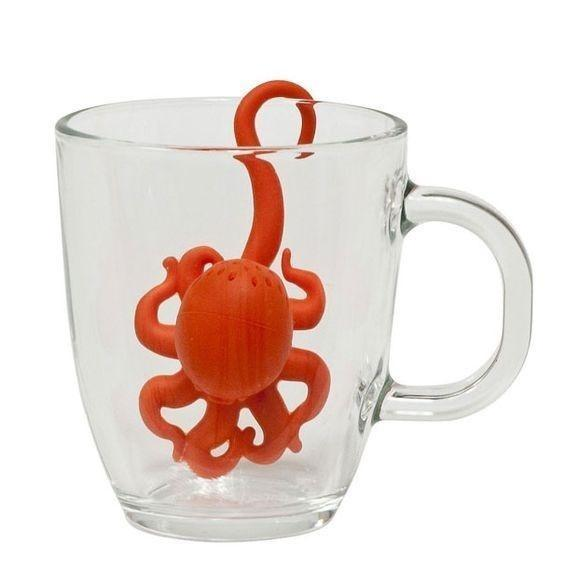glass-mug: (36, 84, 542, 548)
